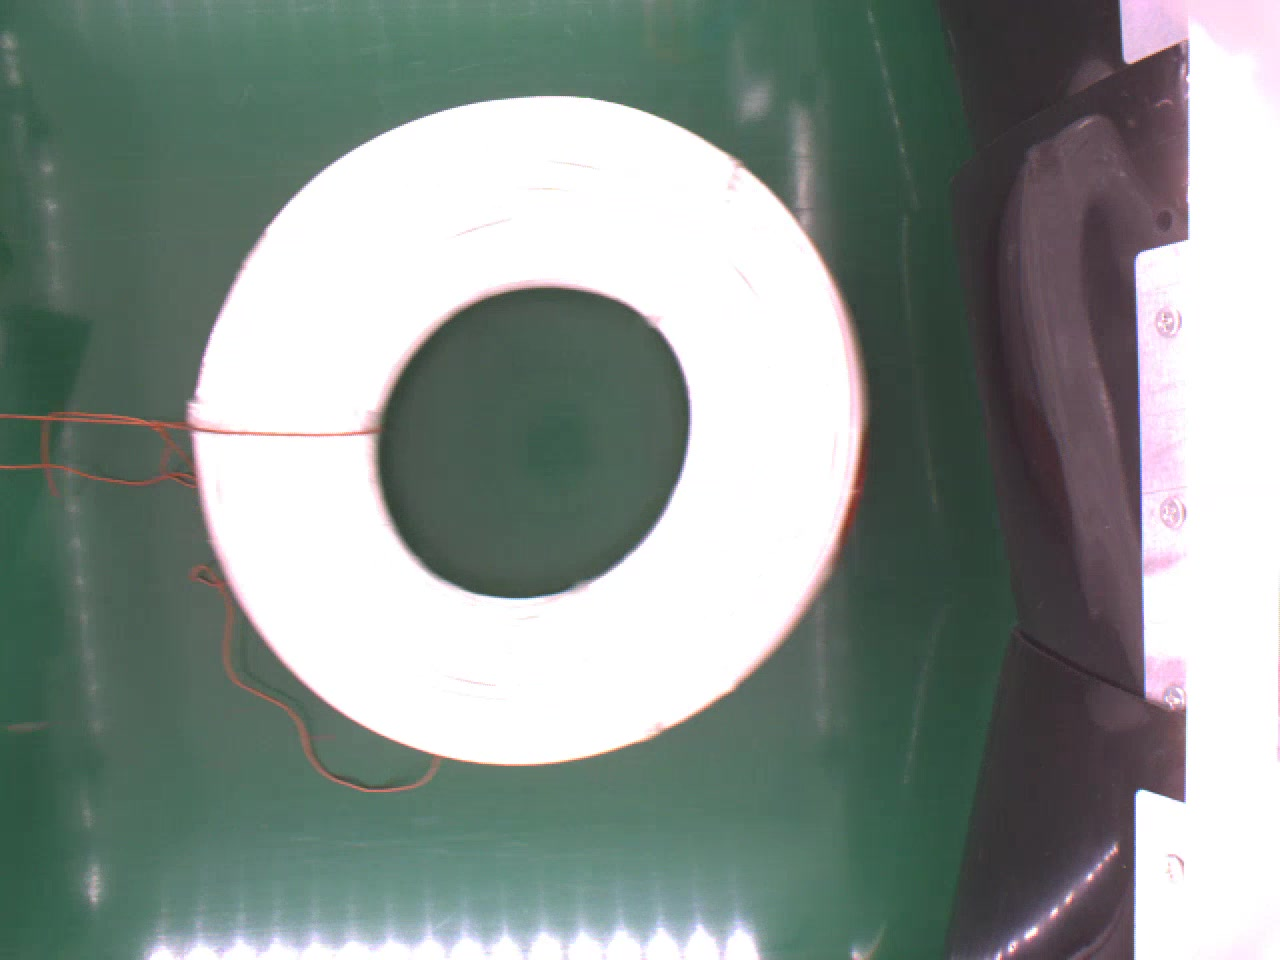white: (191, 91, 860, 763)
